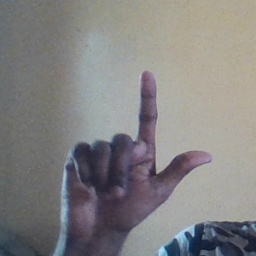L: (55, 68, 217, 230)
